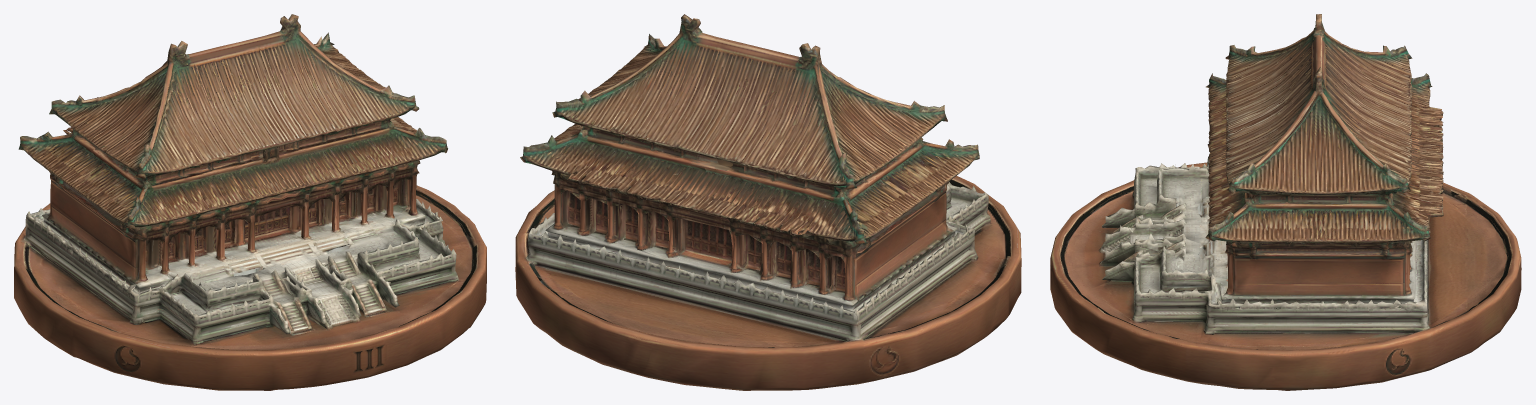
Rendered from forbidden_city_bronze.glb.
3 views of the same model, side by side, from view 1: azimuth 30°, elevation 25°; view 2: azimuth 150°, elevation 25°; view 3: azimuth 270°, elevation 25° (orthographic). The views are drawn at different scales.
Visible parts, largest first — view 1: Mesh_0; view 2: Mesh_0; view 3: Mesh_0.
Part boxes in pixels (<box>): Mesh_0: <box>14,14,486,390</box>; Mesh_0: <box>515,14,1021,390</box>; Mesh_0: <box>1050,14,1521,390</box>.
Size of the model in its own units: 1.91 by 1.12 by 1.91.
Materials: 1 (1 with a texture image).
